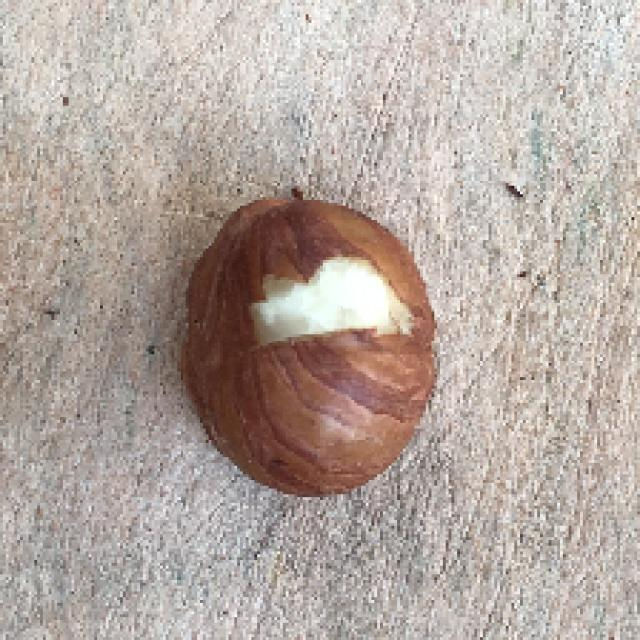hazelnut: (182, 182, 460, 501)
